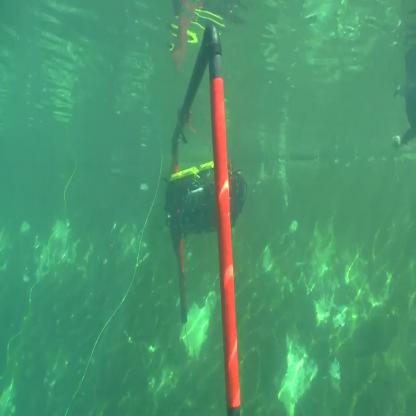gate: (165, 22, 244, 416)
